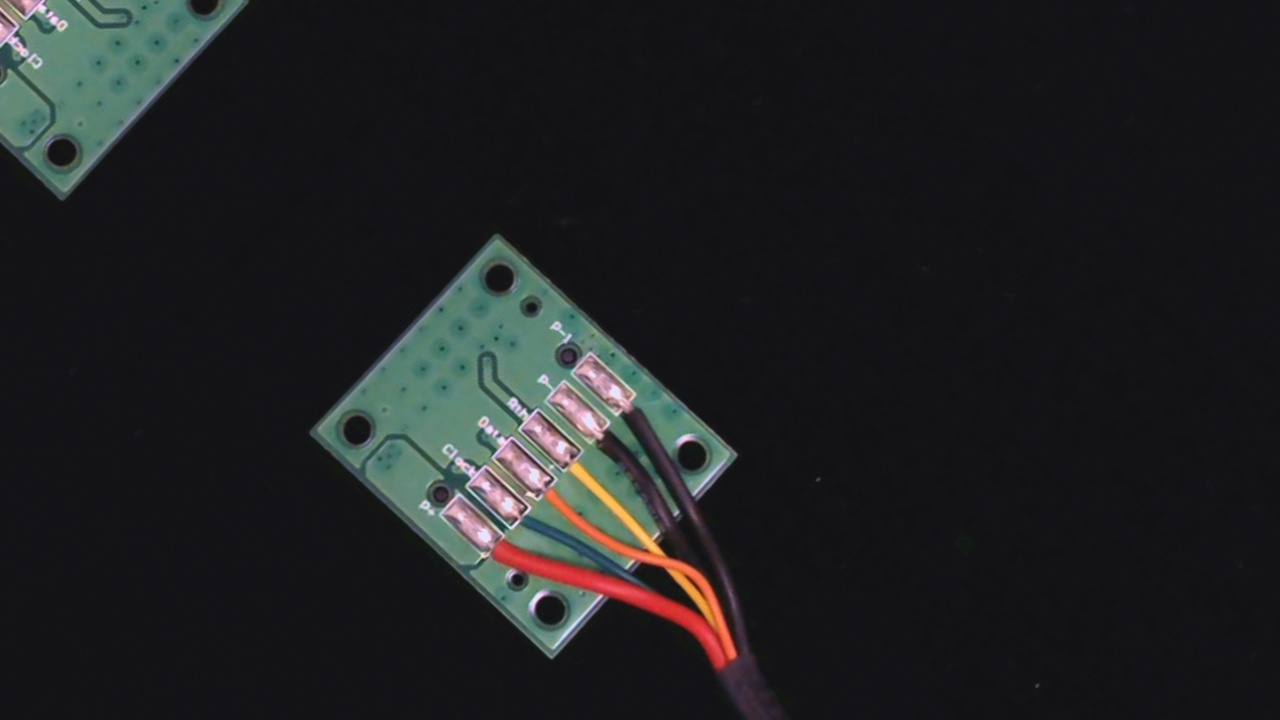Black: (581, 415, 652, 485)
Black1: (607, 385, 675, 451)
Green: (499, 496, 564, 560)
Orange: (526, 470, 598, 540)
Red: (472, 524, 539, 590)
Yellow: (551, 441, 626, 514)
